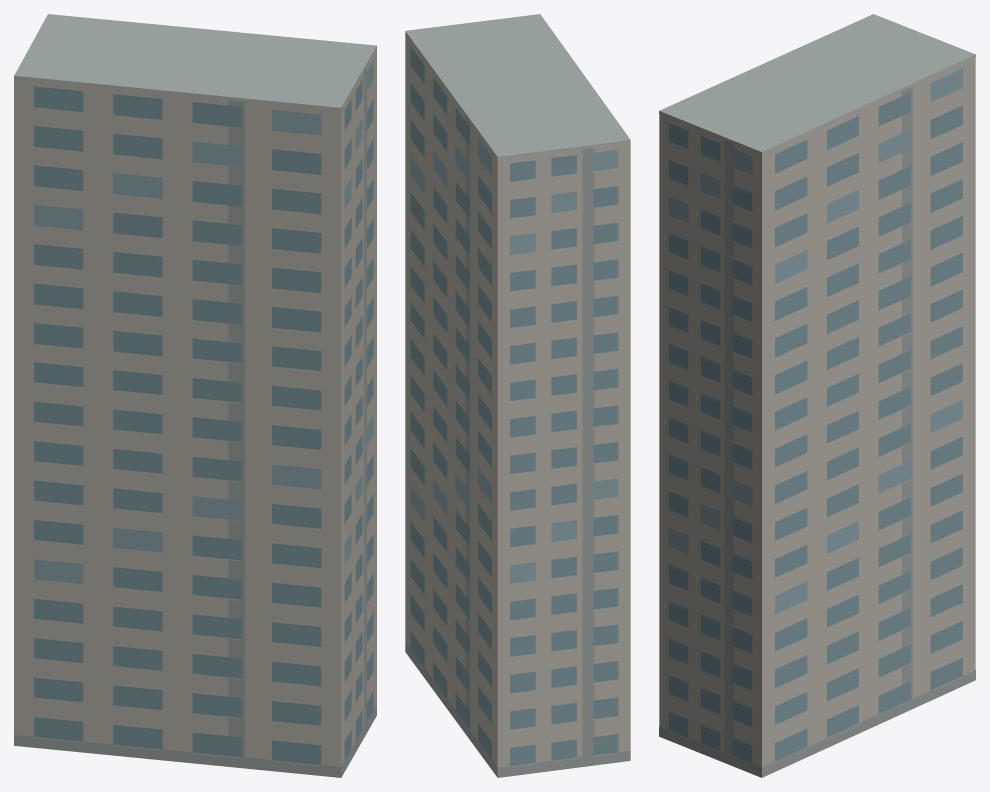
File: survey-upis-33008490.glb
3 renders of one model, left to right at view 1: azimuth 30°, elevation 25°; view 2: azimuth 150°, elevation 25°; view 3: azimuth 270°, elevation 25°, orthographic. The views are drawn at different scales.
Visible parts, largest first — view 1: survey-upis-33008490.tmp; view 2: survey-upis-33008490.tmp; view 3: survey-upis-33008490.tmp.
Part boxes in pixels (bbox=[...]): survey-upis-33008490.tmp: bbox=[14, 14, 376, 777]; survey-upis-33008490.tmp: bbox=[405, 14, 630, 777]; survey-upis-33008490.tmp: bbox=[659, 14, 975, 777].
Bounding box in the file's own units: 24.55 × 51.85 × 23.79.
